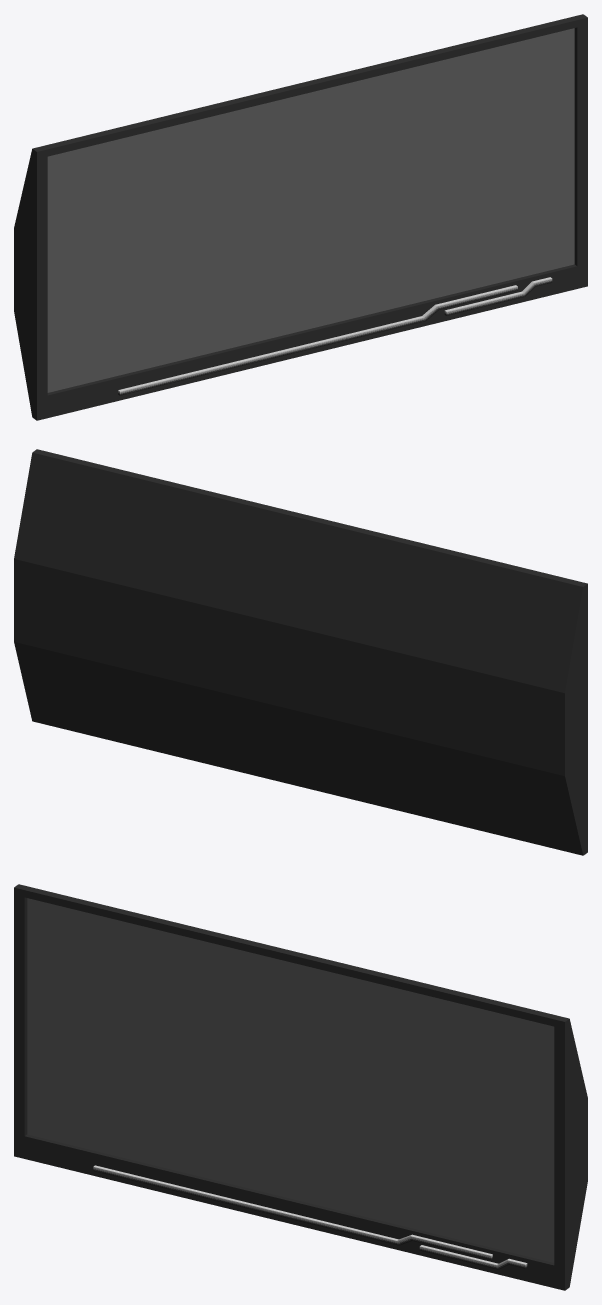
3 views of the same model, one above another, from view 1: azimuth 30°, elevation 25°; view 2: azimuth 150°, elevation 25°; view 3: azimuth 330°, elevation 25° (orthographic).
Parts seen in each view (by area): view 1: tv_A, tv_A_glow; view 2: tv_A; view 3: tv_A, tv_A_glow.
Part boxes in pixels (<box>): tv_A: <box>14,14,587,420</box>; tv_A_glow: <box>118,277,552,395</box>; tv_A: <box>14,449,587,855</box>; tv_A: <box>14,884,587,1290</box>; tv_A_glow: <box>93,1165,527,1269</box>.
Bounding box in the file's own units: 82.3 × 38.37 × 6.44.
